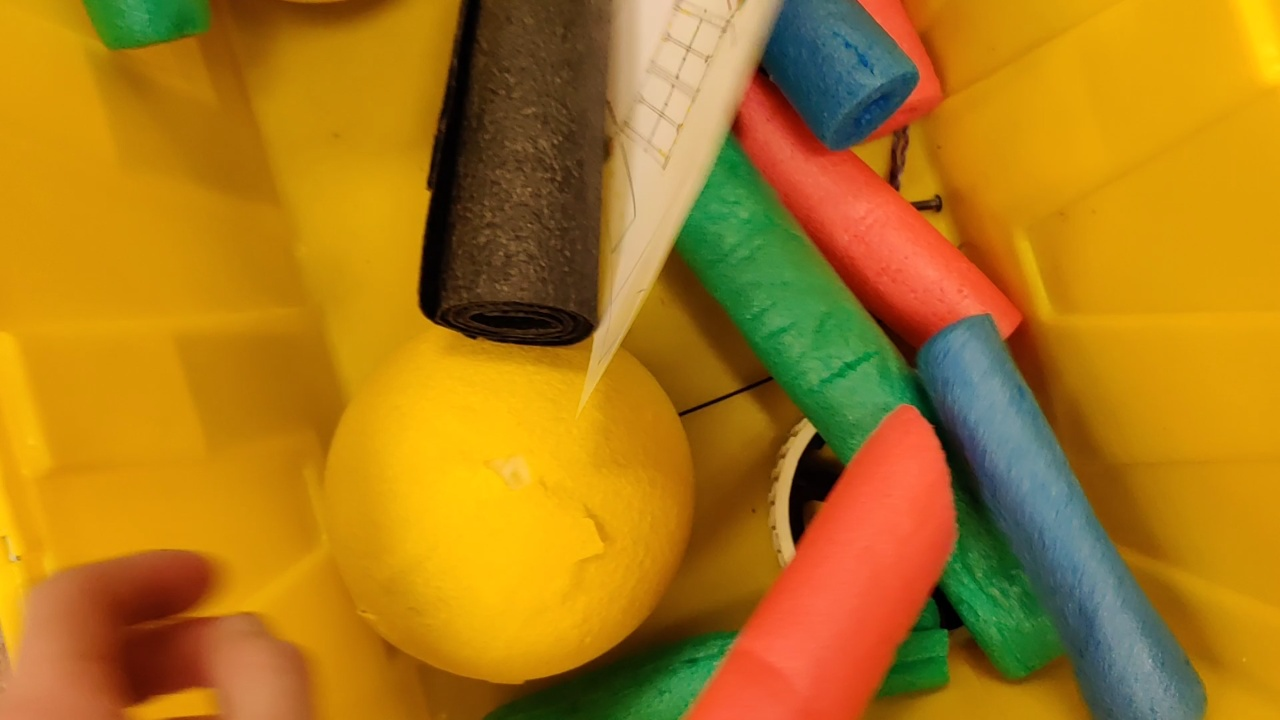Ball: (319, 311, 697, 684)
